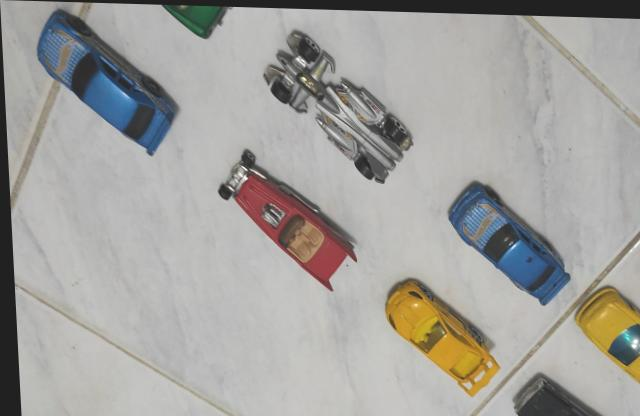01_FORD: (508, 369, 603, 416)
02_OZSOME: (570, 281, 640, 385)
03_V8: (215, 147, 355, 288)
04_MERZEDES: (34, 6, 179, 154), (443, 176, 569, 301)
05_DC121: (261, 27, 414, 180)
06_MASERATI: (159, 4, 232, 38)
07_RHLTURBO: (380, 274, 497, 394)
